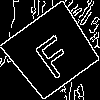F: (27, 26, 78, 82)
